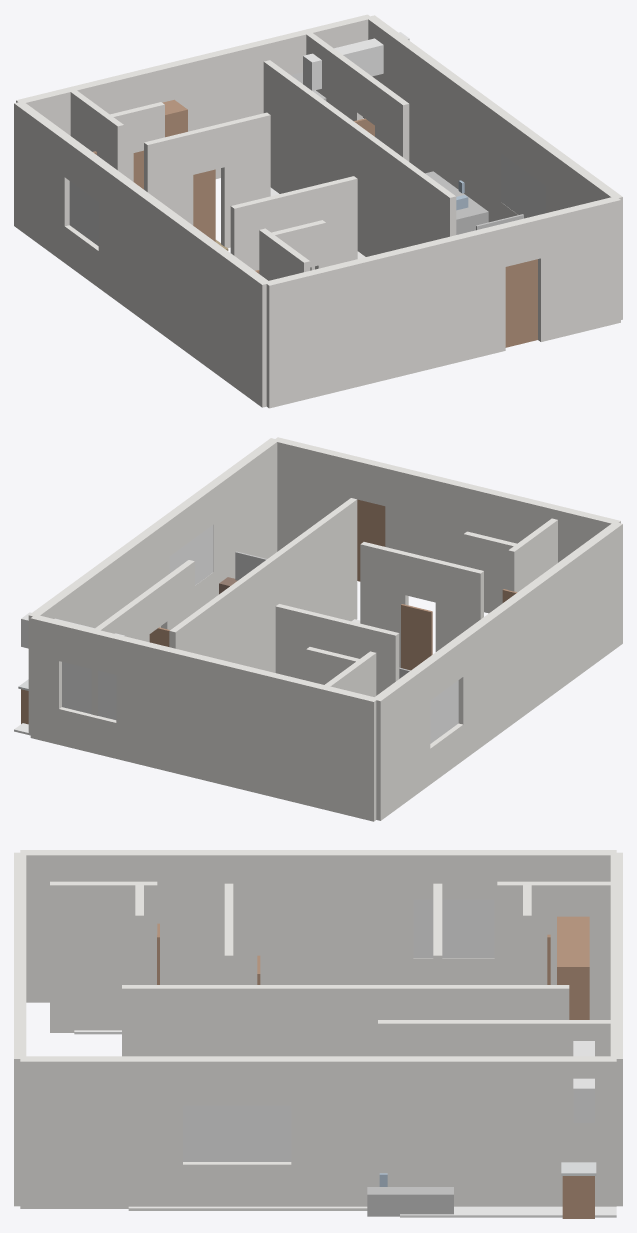
File: 2bhk.glb
3 views of the same model, one above another, from view 1: azimuth 30°, elevation 25°; view 2: azimuth 150°, elevation 25°; view 3: azimuth 270°, elevation 25° (orthographic). The views are drawn at different scales.
Parts seen in each view (by area): view 1: Front_Wall, Left_Wall, Right_Wall, Main_Partition, Back_Wall, Master_Bedroom_Wall, Bedroom2_Wall, Kitchen_Wall, Master_Toilet_Wall2, Main_Door, Master_Toilet_Wall1, Living_Window_Frame (+7 smaller); view 2: Back_Wall, Left_Wall, Front_Wall, Right_Wall, Main_Partition, Bedroom2_Wall, Master_Bedroom_Wall, Kitchen_Wall, Common_Toilet_Wall2, Kitchen_Window_Frame, Common_Toilet_Wall1, Bedroom2_Door (+6 smaller); view 3: Right_Wall, Left_Wall, Main_Partition, Common_Toilet_Wall2, Master_Toilet_Wall2, Kitchen_Wall, Living_Window_Frame, Master_Window_Frame, Front_Wall, Back_Wall, Wardrobe, Sofa_Chaise (+8 smaller).
Boxes of the visible parts, left/top/right/bottom form: Front_Wall: left=264, top=196, right=620, bottom=408; Left_Wall: left=14, top=101, right=269, bottom=407; Right_Wall: left=366, top=15, right=622, bottom=319; Main_Partition: left=263, top=60, right=456, bottom=256; Back_Wall: left=16, top=14, right=371, bottom=178; Master_Bedroom_Wall: left=144, top=112, right=270, bottom=247; Bedroom2_Wall: left=230, top=176, right=357, bottom=270; Kitchen_Wall: left=306, top=31, right=409, bottom=161; Master_Toilet_Wall2: left=69, top=90, right=123, bottom=174; Main_Door: left=505, top=259, right=537, bottom=347; Master_Toilet_Wall1: left=108, top=102, right=164, bottom=181; Living_Window_Frame: left=501, top=154, right=546, bottom=218; Back_Wall: left=30, top=614, right=378, bottom=821; Left_Wall: left=375, top=522, right=622, bottom=820; Front_Wall: left=274, top=437, right=620, bottom=613; Right_Wall: left=28, top=438, right=278, bottom=733; Main_Partition: left=169, top=498, right=357, bottom=672; Bedroom2_Wall: left=360, top=542, right=483, bottom=667; Master_Bedroom_Wall: left=275, top=604, right=399, bottom=695; Kitchen_Wall: left=91, top=560, right=194, bottom=715; Common_Toilet_Wall2: left=508, top=518, right=557, bottom=592; Kitchen_Window_Frame: left=62, top=662, right=116, bottom=719; Common_Toilet_Wall1: left=463, top=531, right=518, bottom=609; Bedroom2_Door: left=401, top=604, right=432, bottom=670; Right_Wall: left=20, top=1056, right=616, bottom=1208; Left_Wall: left=20, top=850, right=616, bottom=1002; Main_Partition: left=122, top=985, right=569, bottom=1056; Common_Toilet_Wall2: left=50, top=881, right=157, bottom=1032; Master_Toilet_Wall2: left=497, top=881, right=616, bottom=1019; Kitchen_Wall: left=378, top=1020, right=615, bottom=1056; Living_Window_Frame: left=183, top=1105, right=291, bottom=1161; Master_Window_Frame: left=413, top=899, right=494, bottom=958; Front_Wall: left=14, top=852, right=26, bottom=1206; Back_Wall: left=610, top=852, right=622, bottom=1206; Wardrobe: left=557, top=916, right=589, bottom=1019; Sofa_Chaise: left=367, top=1187, right=453, bottom=1216.
Size of the model in its own units: 9.71 by 3 by 11.23.
